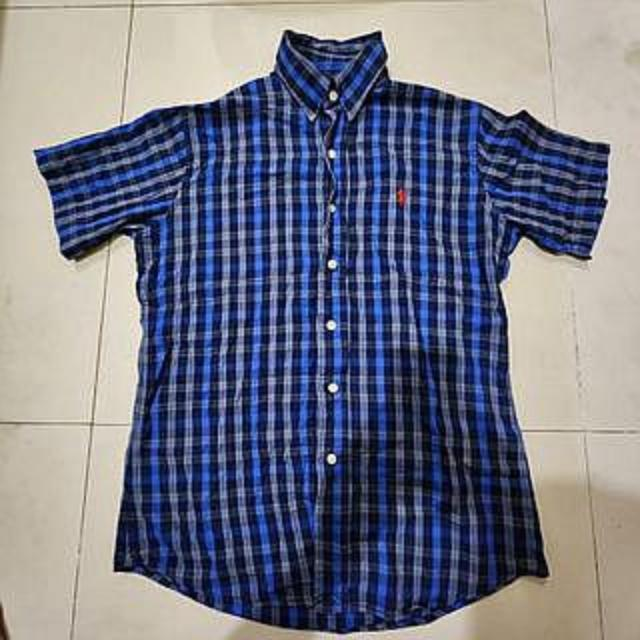SHIRT: (21, 22, 640, 640)
